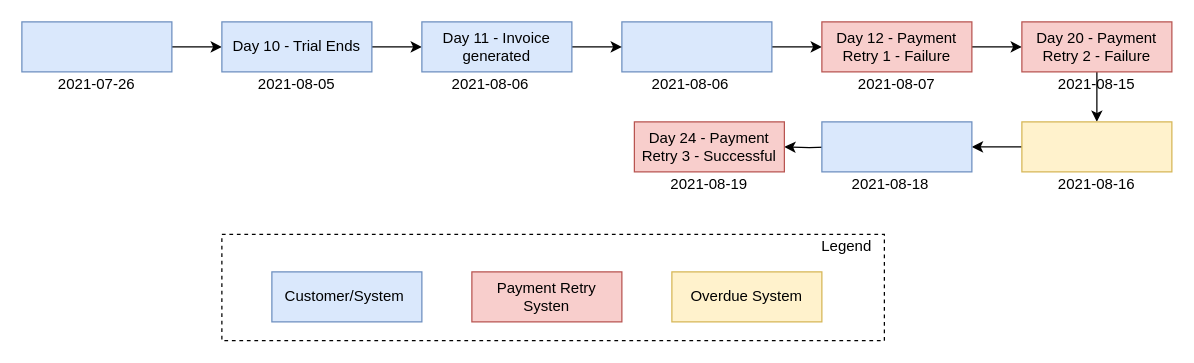
Some shapes in this 1194 by 363 pixel diagram are drawn without their labels. Here are the shapes that lost their labels. From the top down, the centre of each, then its label:
(96,46): Day 1 - Customer Subscribes
(696,46): Day 11 - Payment failure
(896,146): Day 23 - Customer fixes payment issues
(1096,146): Day 21 - Overdue System - Account in WARNING state
